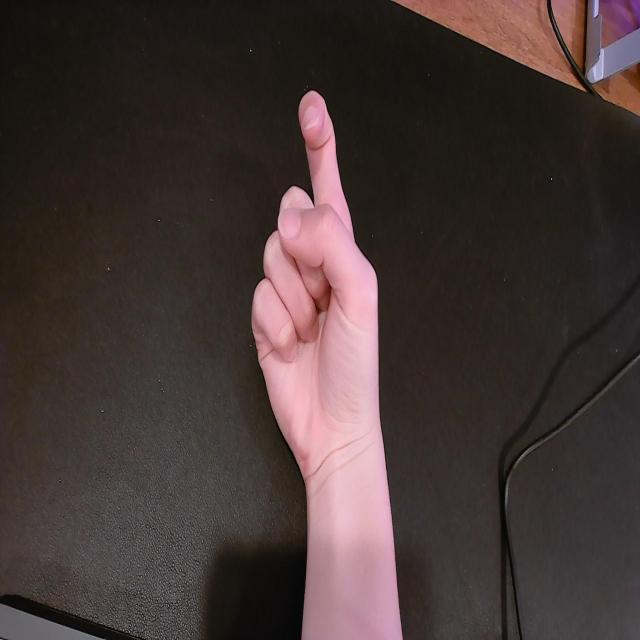X: (247, 86, 384, 439)
